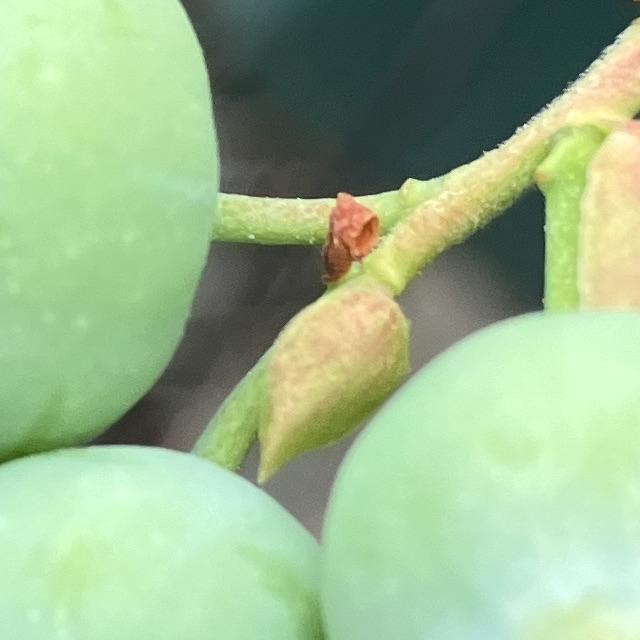Blueberries: (316, 299, 640, 640), (0, 0, 221, 472), (0, 441, 366, 640)
